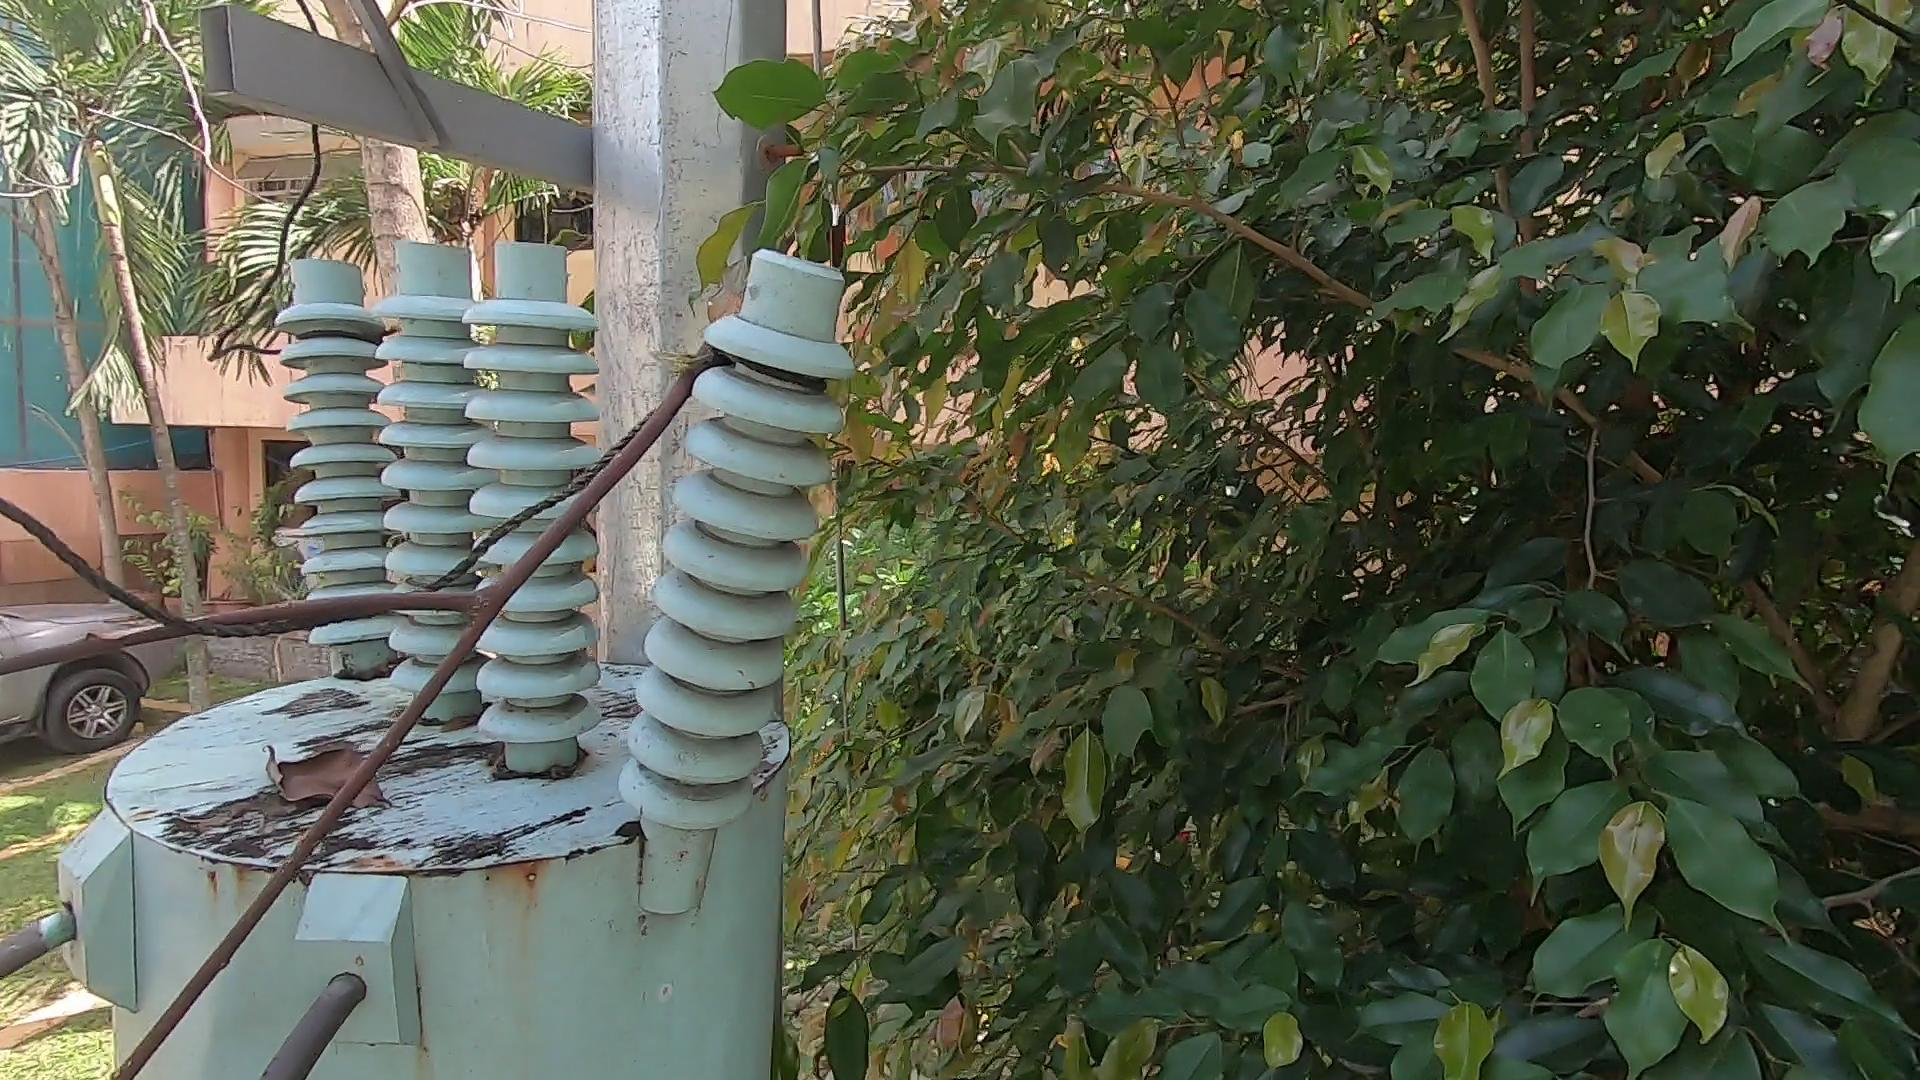leaf: (258, 731, 402, 827)
tree branch: (13, 302, 711, 1080)
